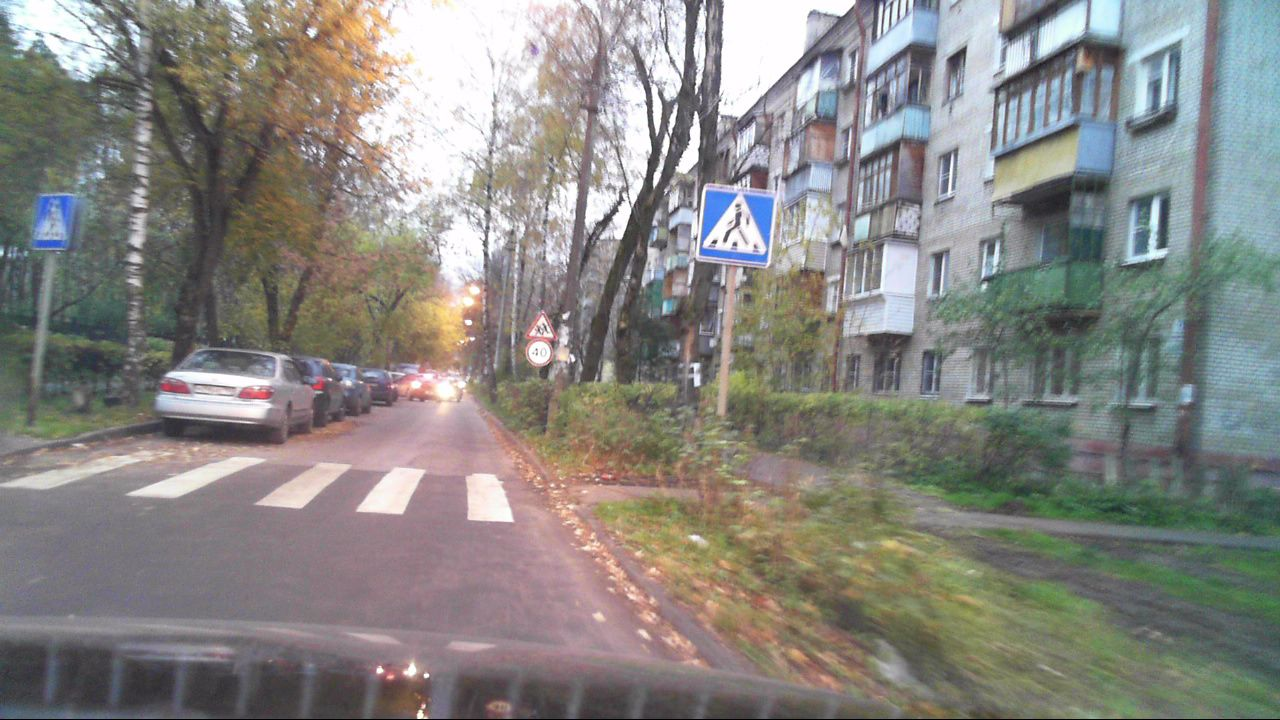speed_warning_40: (526, 342, 552, 367)
